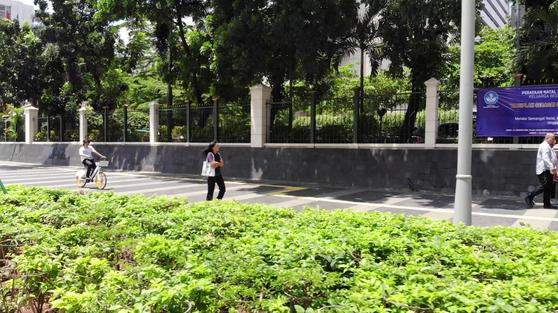bike: (71, 155, 113, 193)
